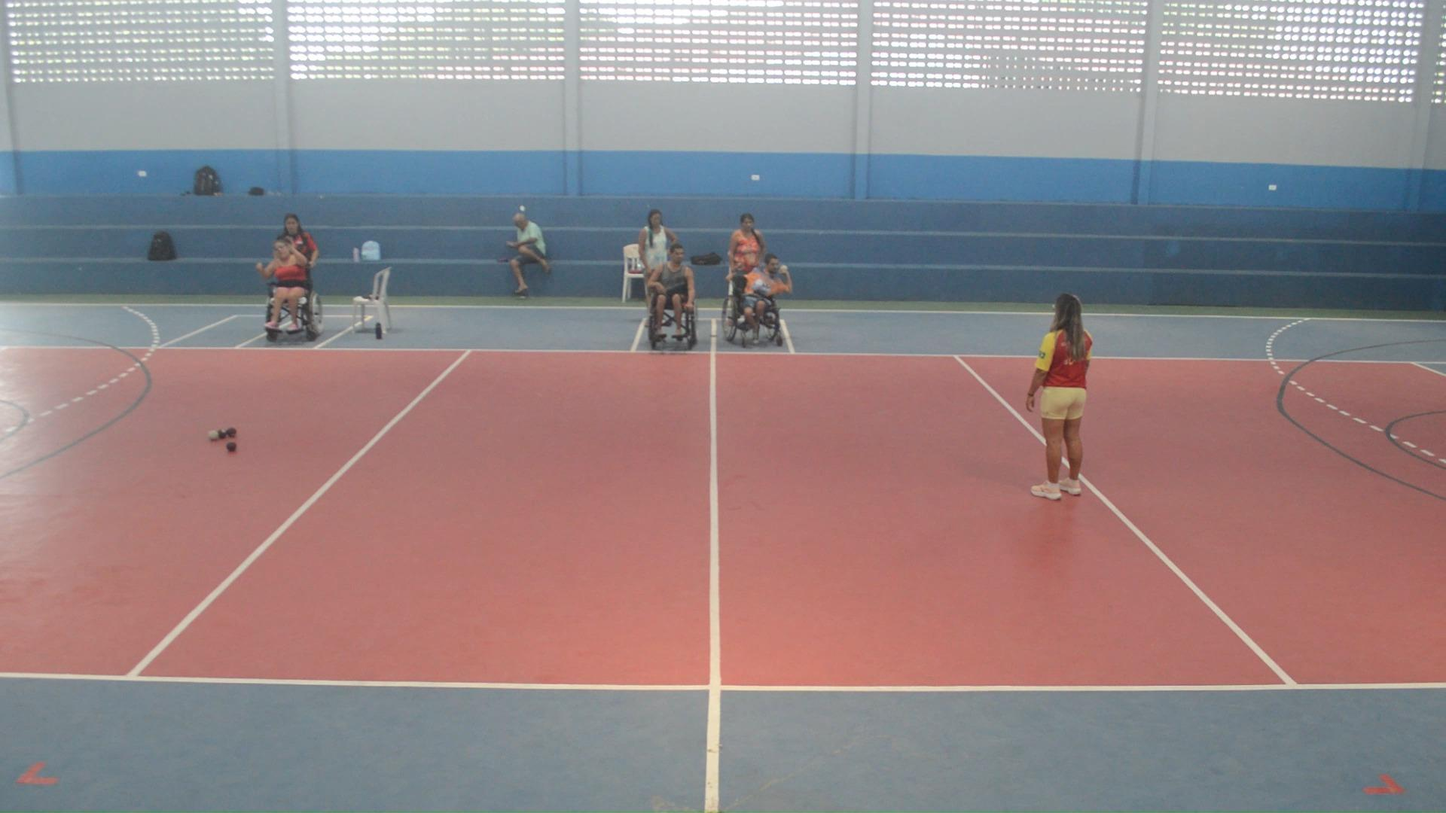red_ball: (226, 441, 237, 452), (218, 429, 228, 439), (227, 428, 237, 436)
white_ball: (208, 430, 220, 442)
